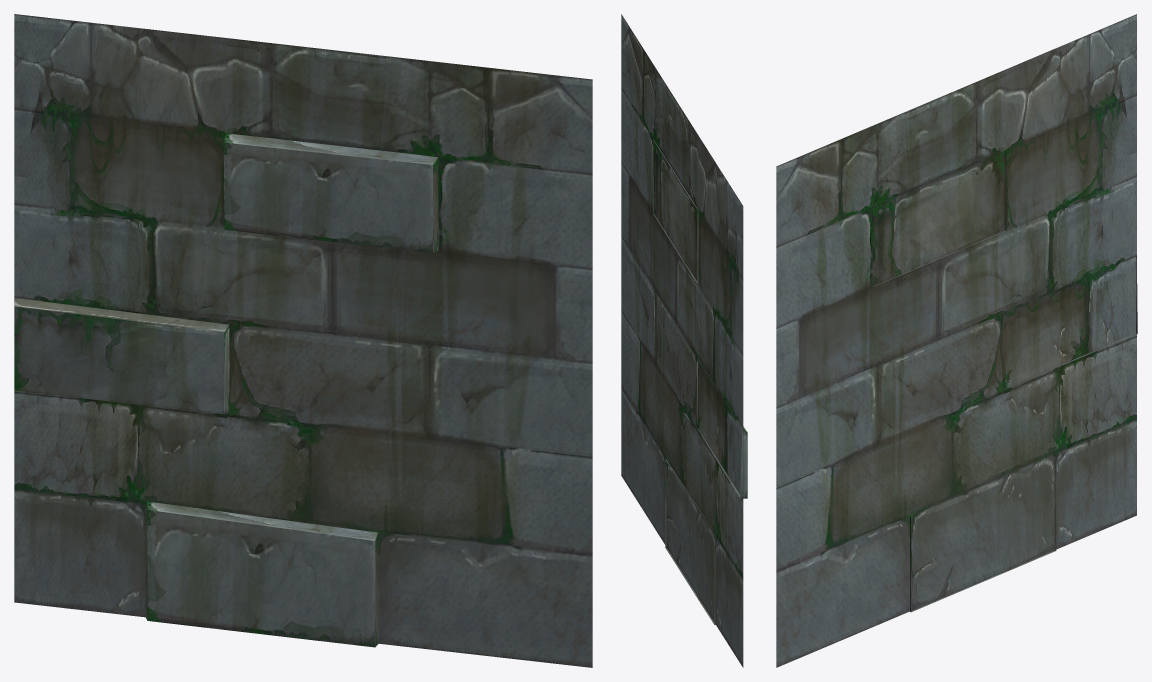
Rendered from stemple_wall_diagonal_02.fbx.
3 renders of one model, left to right at view 1: azimuth 30°, elevation 25°; view 2: azimuth 150°, elevation 25°; view 3: azimuth 270°, elevation 25°, orthographic. The views are drawn at different scales.
Visible parts, largest first — view 1: obj1.040; view 2: obj1.040; view 3: obj1.040.
Part boxes in pixels (x1,y1,x2,y2): obj1.040: (14, 14, 592, 667); obj1.040: (621, 14, 747, 667); obj1.040: (776, 14, 1137, 667).
Size of the model in its own units: 3.61 by 5.51 by 3.59.
